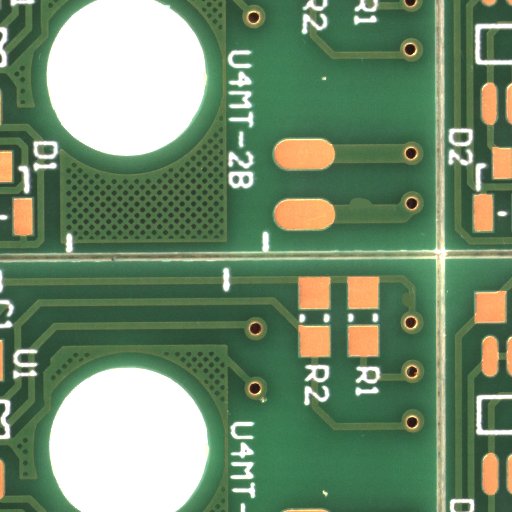Spur: (359, 203, 390, 215), (404, 299, 417, 316)
